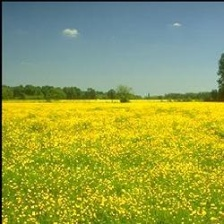neutral: (4, 3, 224, 222)
